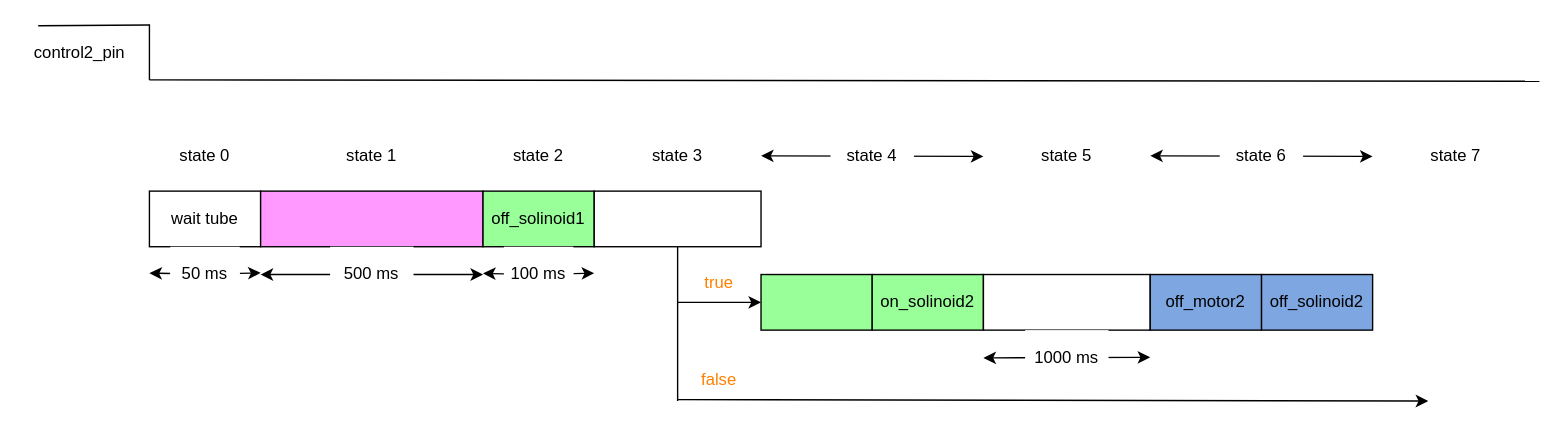
Image size: 1565x436. Some labels were removed from this diagram. Here are the shapes that lost their labels. From the top down, the centre of each, then its label:
At pixel 371 218: "on_solinoid1".
At pixel 677 218: "check_sensor4".
At pixel 816 301: "on_motor2".
At pixel 1066 301: "wait sensor4 = false".
